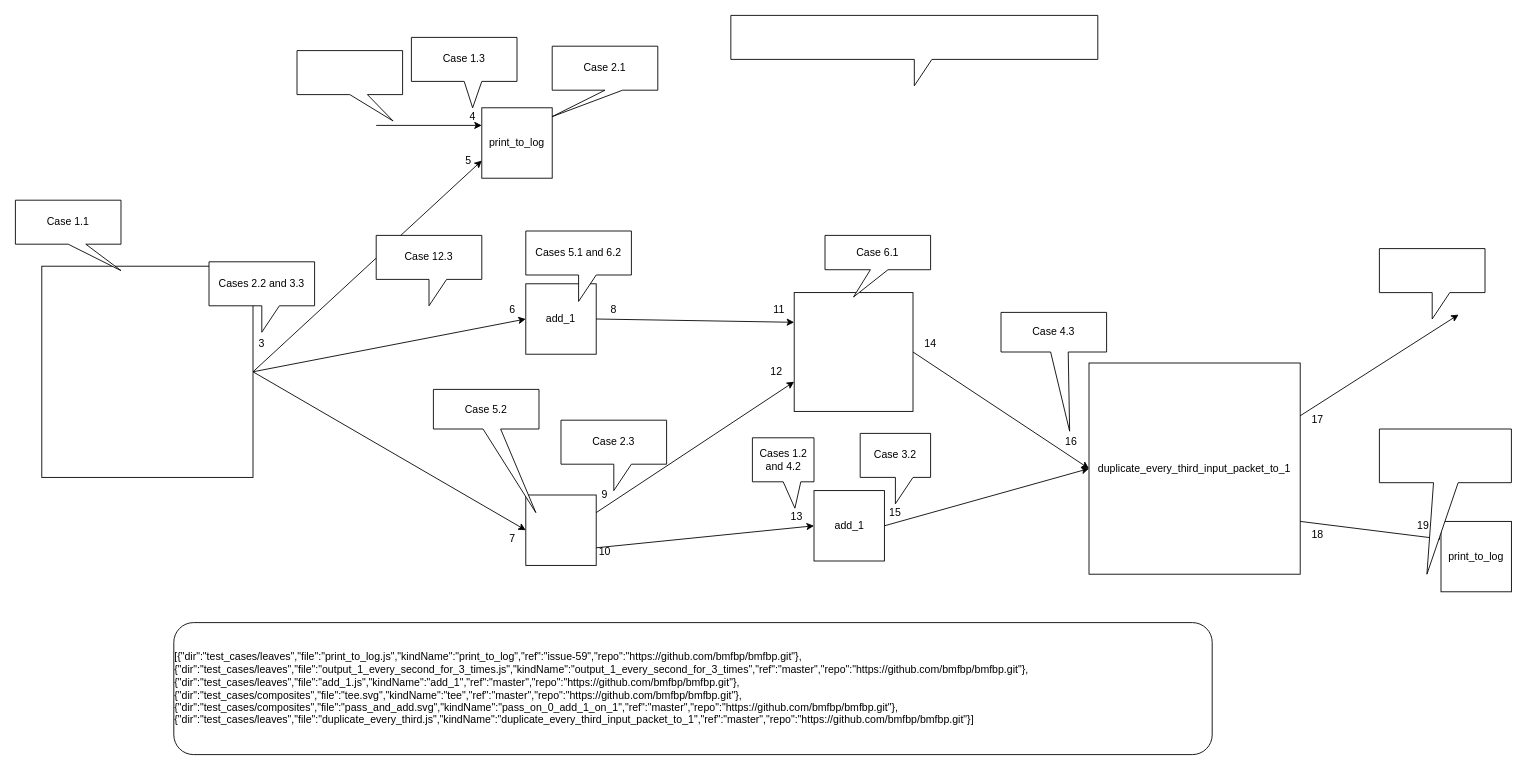
Image size: 1527x770. Some labels were removed from this diagram. Each missing label, with the centre of its shape:
Case 12.1: (349,85)
Case 12.2: (1432,283)
Case 4.1 - not allowed (removed): (1445,501)
output_1_every_second_for_3_times: (147,371)
pass_on_0_add_1_on_1: (853,351)
tee: (560,529)
This schematic is an example of case 7.1, 8.1, and 9.2: (914,50)
